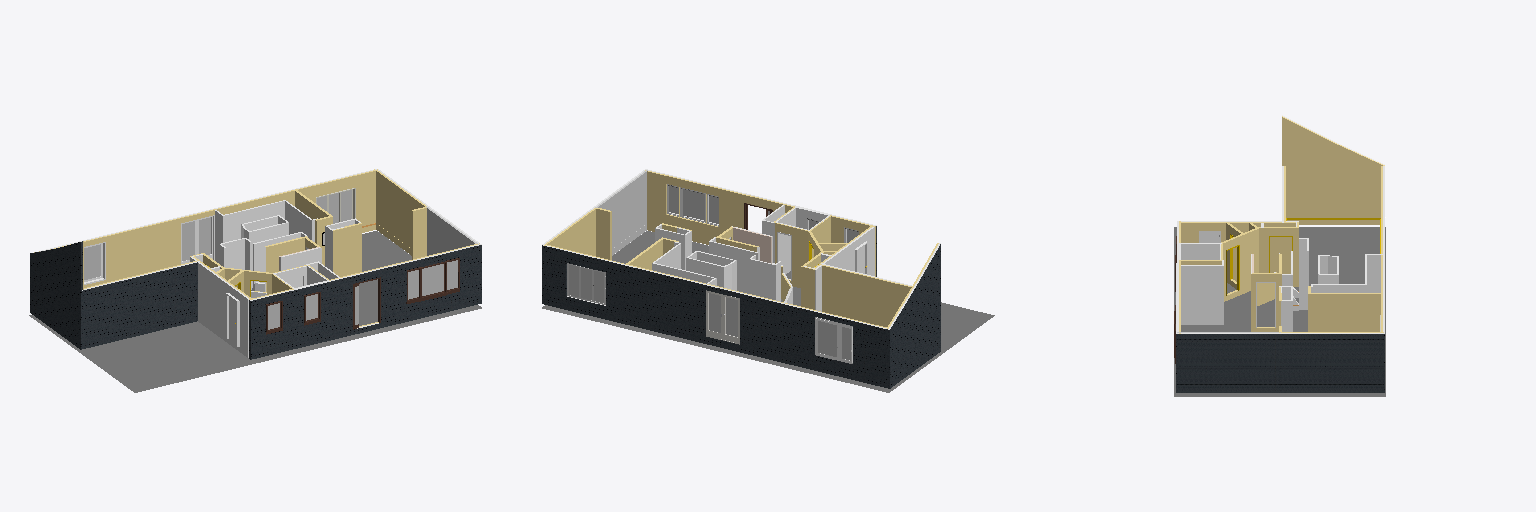
3 renders of one model, left to right at view 1: azimuth 30°, elevation 25°; view 2: azimuth 150°, elevation 25°; view 3: azimuth 270°, elevation 25°, orthographic.
Visible parts, largest first — view 1: ground_1, wall_1_5, wall_26_151, wall_40_240, wall_11_51, wall_10_45, wall_6_19, wall_27_157, wall_28_163, wall_39_233, wall_33_194, wall_32_187 (+15 smaller); view 2: wall_26_152, ground_1, wall_1_6, wall_33_195, wall_40_240, wall_5_12, wall_39_233, wall_27_158, wall_28_164, wall_11_51, wall_6_19, wall_31_182 (+11 smaller); view 3: ground_1, wall_5_13, wall_6_20, wall_40_241, wall_39_234, wall_7_27, wall_55_336, wall_11_52, wall_15_77, wall_17_89, wall_12_57, wall_29_170 (+2 smaller).
Boxes of the visible parts, box(x1,y1,x2,y2) form: ground_1: box(29, 231, 481, 392); wall_1_5: box(82, 262, 197, 348); wall_26_151: box(84, 191, 294, 287); wall_40_240: box(55, 241, 82, 349); wall_11_51: box(190, 257, 248, 357); wall_10_45: box(249, 290, 295, 359); wall_6_19: box(376, 171, 424, 255); wall_27_157: box(433, 245, 480, 314); wall_28_163: box(386, 257, 432, 326); wall_39_233: box(30, 249, 54, 330); wall_33_194: box(298, 171, 375, 232); wall_32_187: box(296, 282, 329, 348); wall_26_152: box(625, 266, 887, 387); ground_1: box(542, 231, 994, 392); wall_1_6: box(822, 266, 911, 326); wall_33_195: box(543, 246, 624, 323); wall_40_240: box(916, 244, 940, 368); wall_5_12: box(598, 172, 646, 255); wall_39_233: box(888, 288, 915, 388); wall_27_158: box(647, 171, 692, 240); wall_28_164: box(693, 183, 739, 244); wall_11_51: box(815, 227, 874, 311); wall_6_19: box(547, 209, 595, 255); wall_31_182: box(775, 223, 807, 287); ground_1: box(1174, 227, 1385, 396); wall_5_13: box(1177, 334, 1280, 392); wall_6_20: box(1281, 334, 1383, 392); wall_40_241: box(1282, 117, 1332, 224); wall_39_234: box(1333, 143, 1382, 224); wall_7_27: box(1308, 294, 1380, 331); wall_55_336: box(1181, 266, 1223, 324); wall_11_52: box(1181, 223, 1295, 281); wall_15_77: box(1223, 229, 1258, 301); wall_17_89: box(1259, 228, 1298, 286); wall_12_57: box(1251, 274, 1278, 331); wall_29_170: box(1181, 244, 1219, 259).
Bounding box in the file's own units: 1657 × 508 × 874.
Materials: 40 (1 with a texture image).